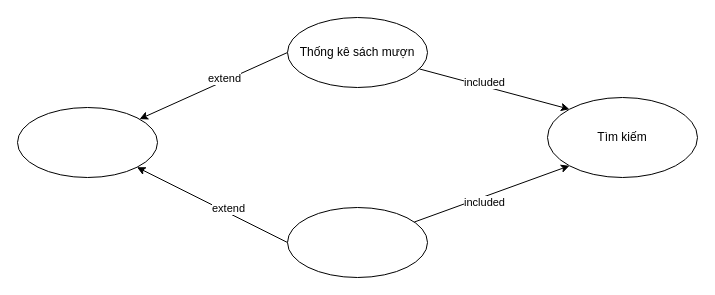
This 715x295 diagram has some shape labels left out. The centre of each missing label's shape, as x and y in pixels:
"Thống kê" belongs at point 87,142.
"Thống kê sách trễ hạn" belongs at point 357,242.
